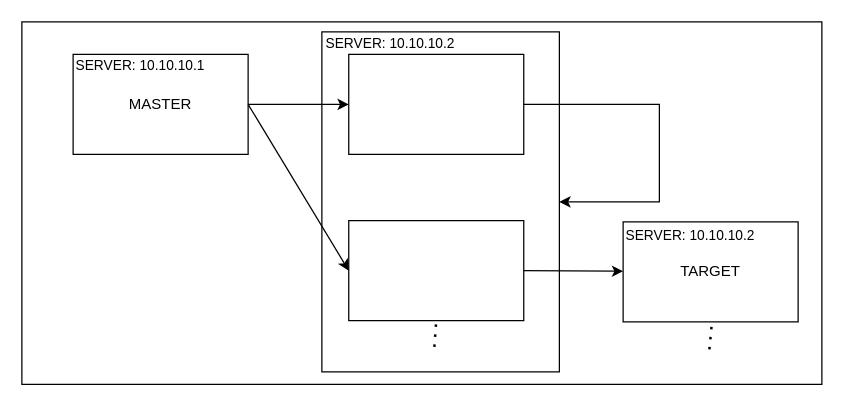
This 844x406 diagram has some shape labels left out. The shapes that lost their labels are listed below. From the top down, each one's centre as x and y in pixels, then its label:
(436,103): MINION
(436,270): PROXY-MINION
